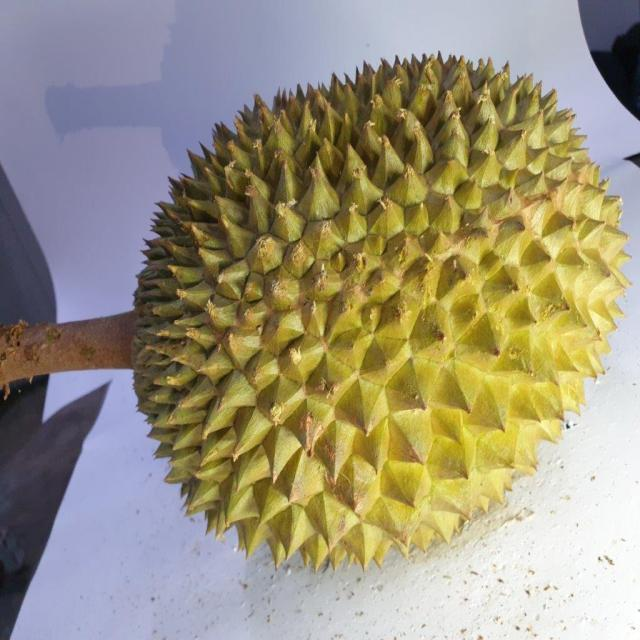immature: (130, 48, 634, 575)
